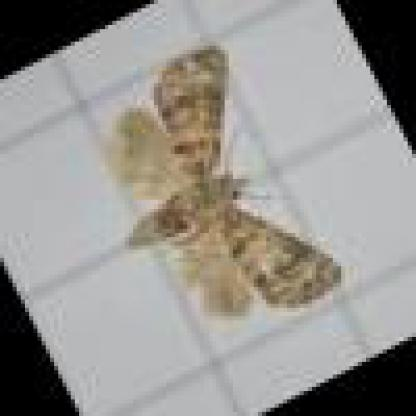Leaf Webber: (121, 40, 341, 318)
